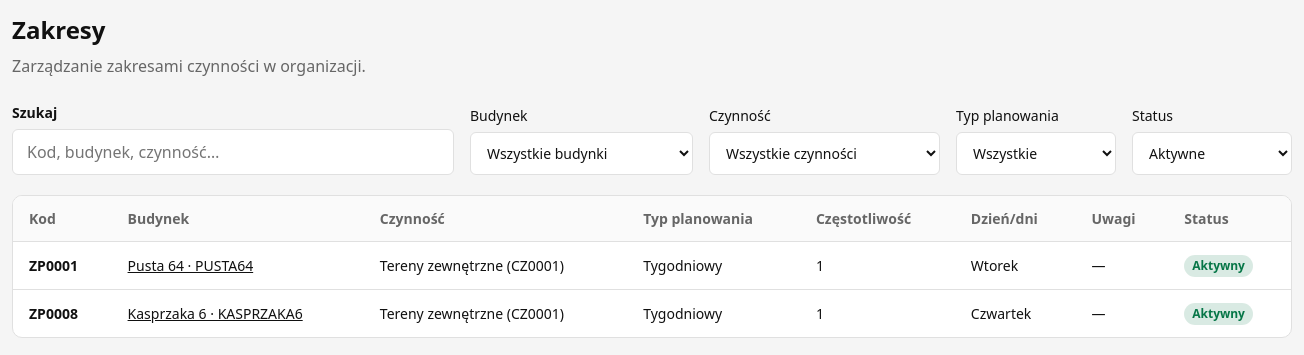
Test: ScopesPage › filters by building
Expected: the text "ZP0001" is shown, [13,242,112,290]
Select "Pusta 64 (PUSTA64)" in the dropdown named "Filtr budynku" at (582, 154), box [470,132,693,175]
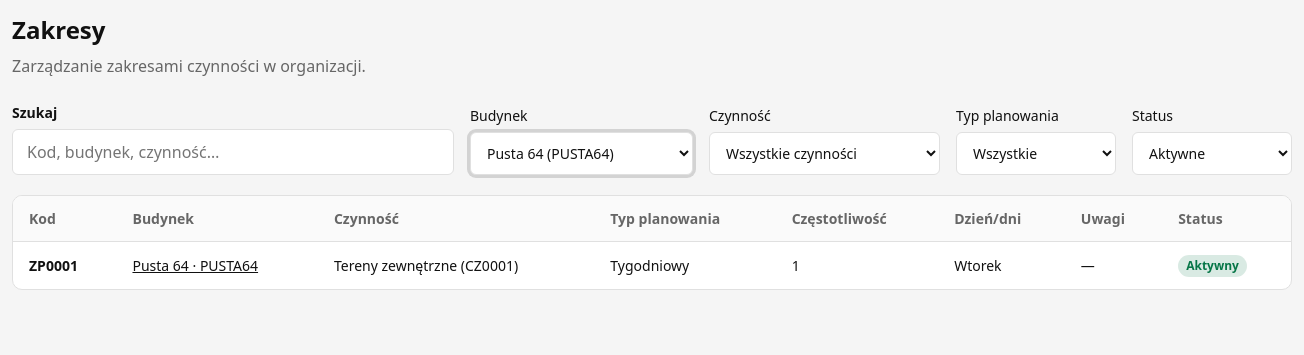
Expected: the text "ZP0001" is shown, [13,242,116,289]
Result: the text "ZP0008" is gone
